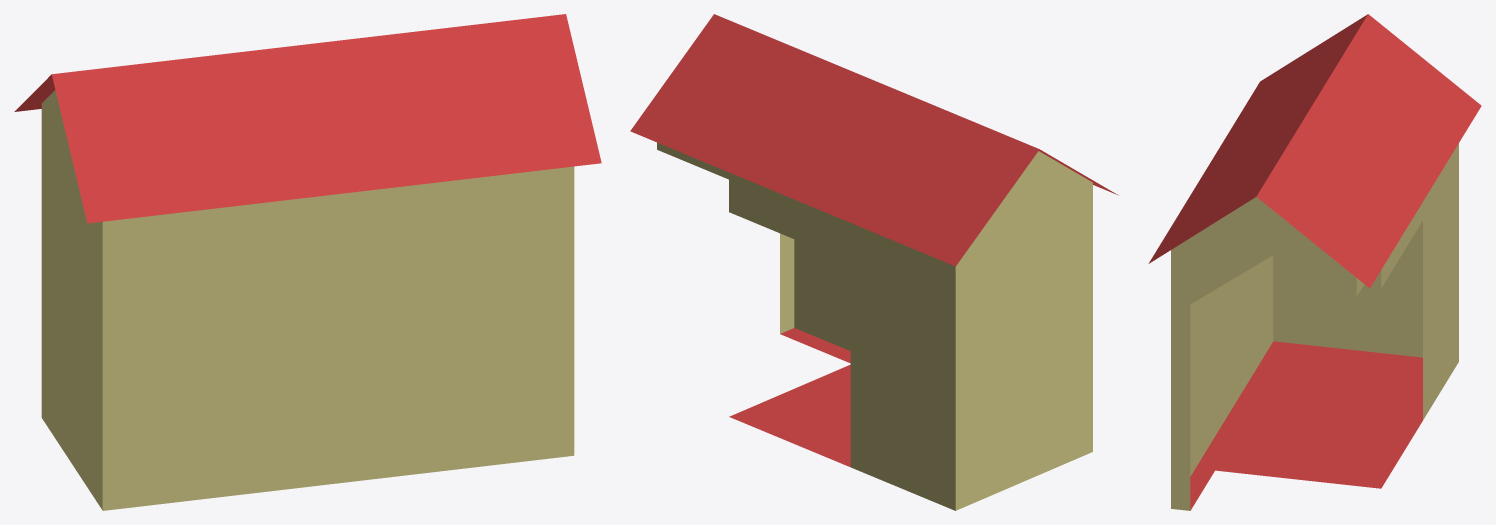
3 views of the same model, side by side, from view 1: azimuth 30°, elevation 25°; view 2: azimuth 150°, elevation 25°; view 3: azimuth 270°, elevation 25° (orthographic). The views are drawn at different scales.
Size of the model in its own units: 19.78 by 13.48 by 14.69.
